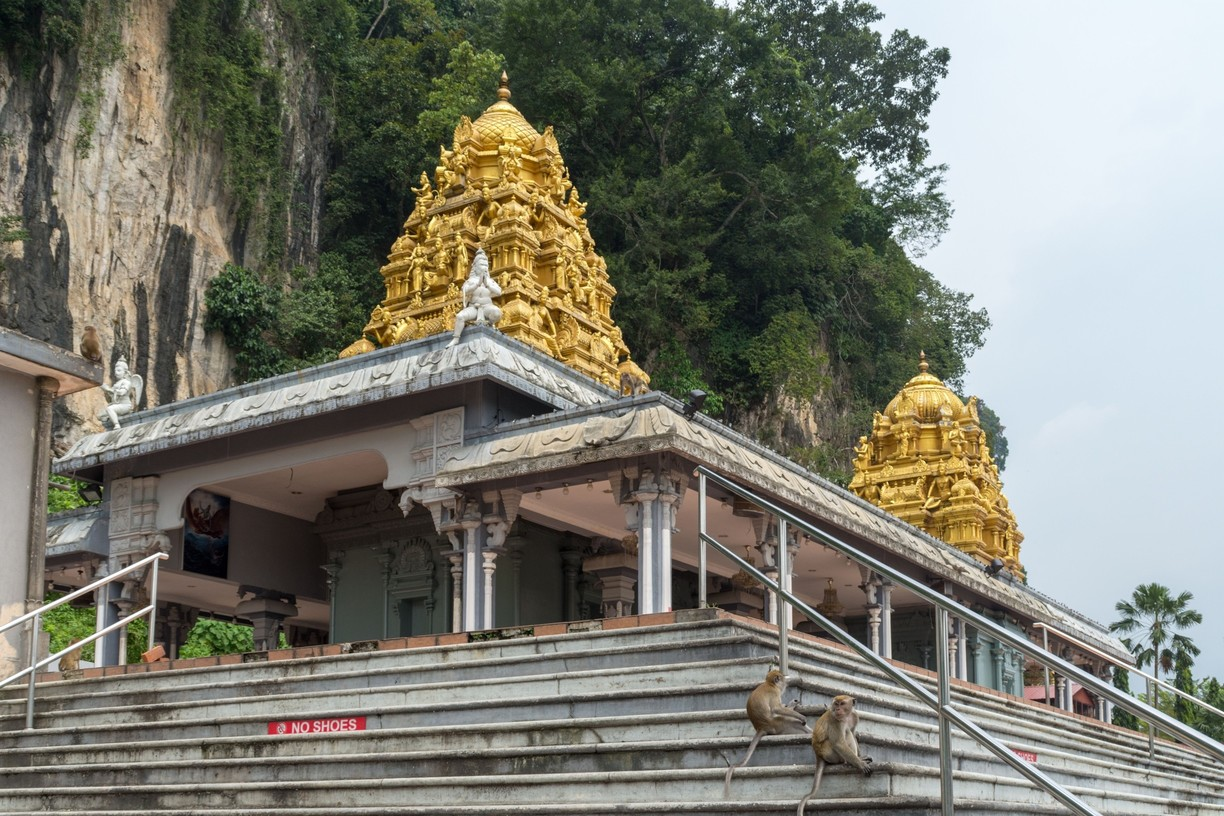Hindu Temple: (343, 88, 620, 368), (843, 345, 1003, 589)
